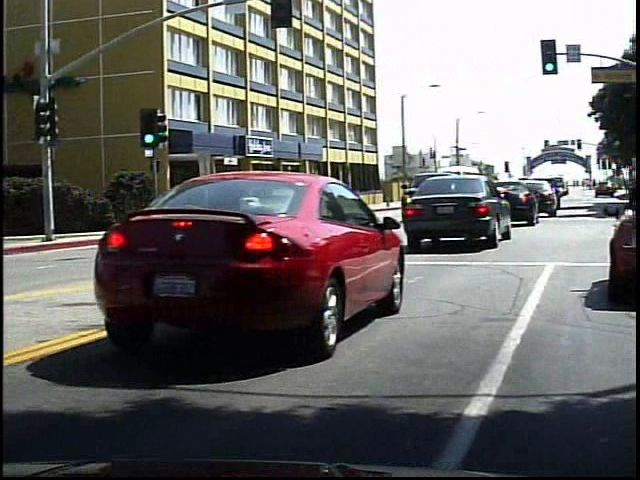person: (282, 185, 300, 224)
